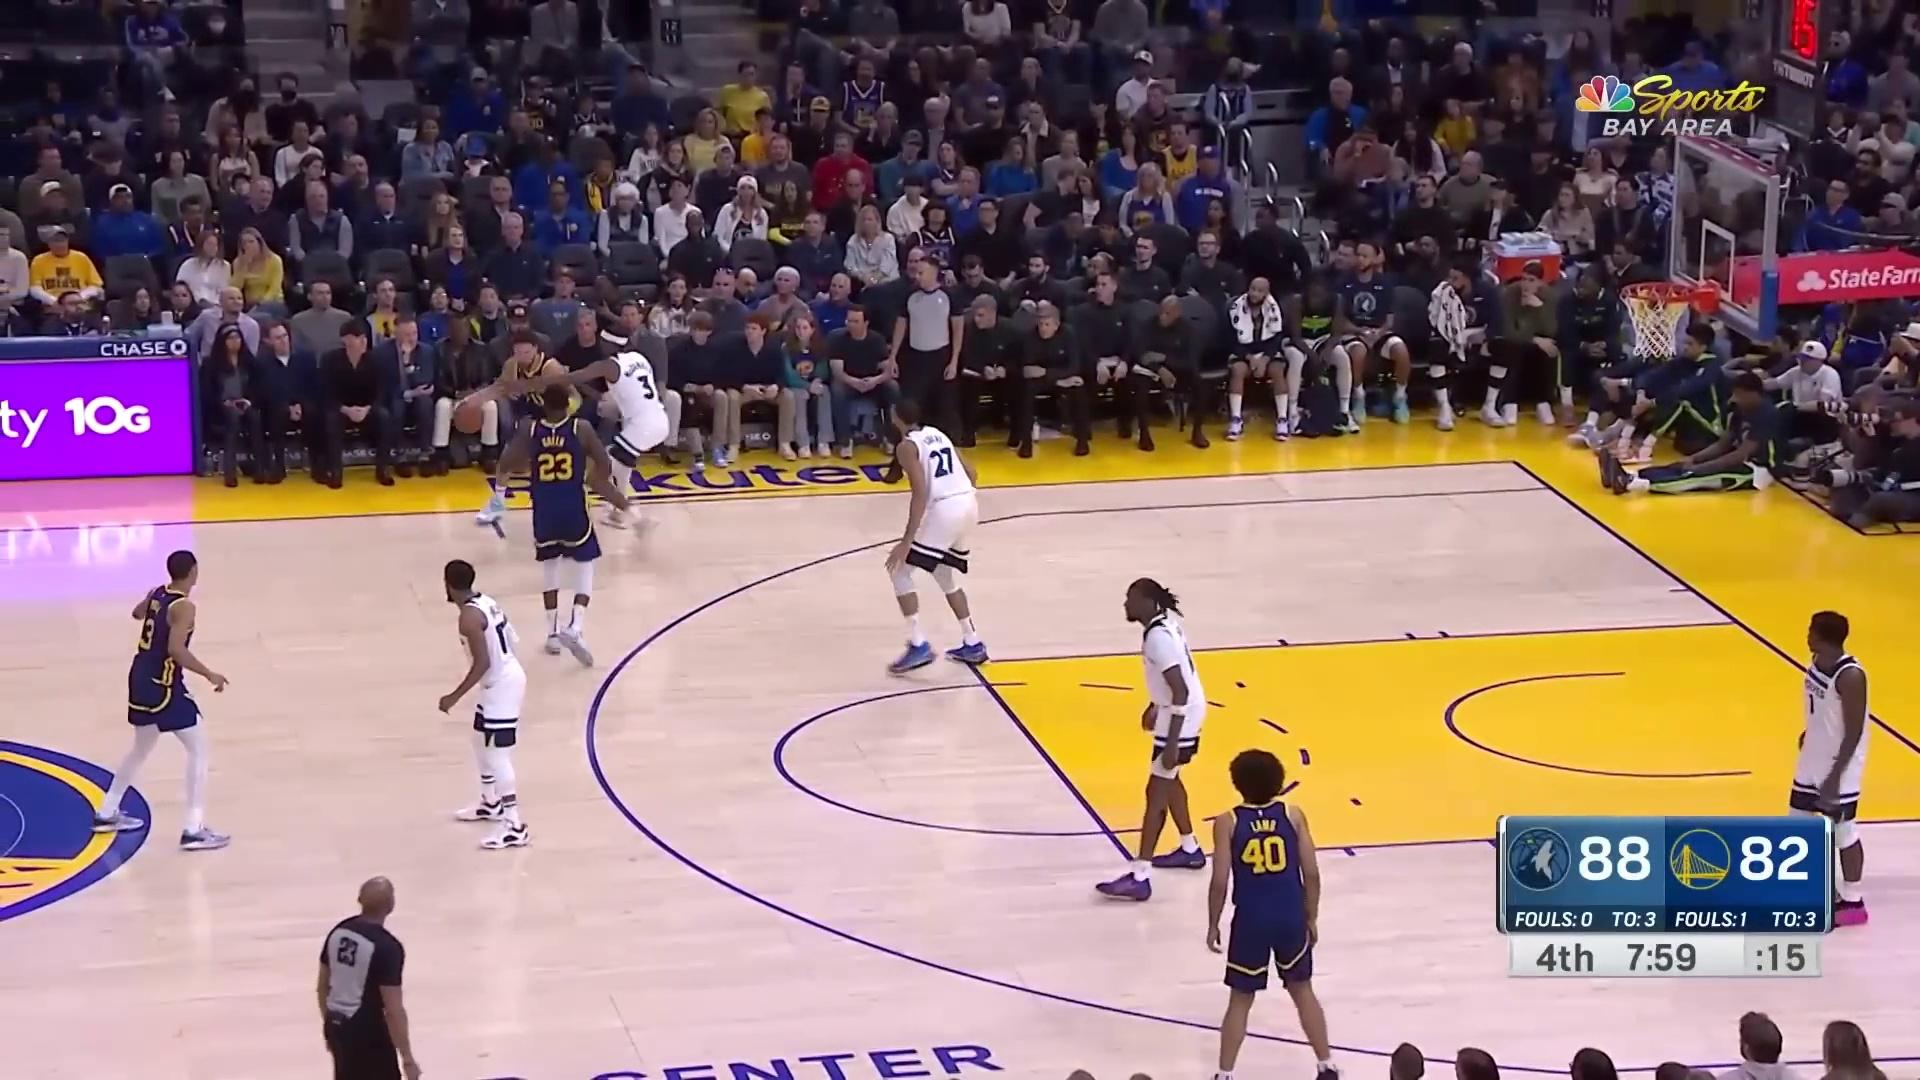Ball: (451, 393, 484, 433)
Player: (84, 541, 239, 854), (486, 381, 646, 681), (1204, 751, 1348, 1080), (1093, 576, 1214, 908), (516, 324, 671, 541), (428, 553, 533, 853), (874, 393, 984, 674), (1779, 606, 1873, 931), (456, 329, 601, 531)
Rim: (1618, 131, 1779, 378)
